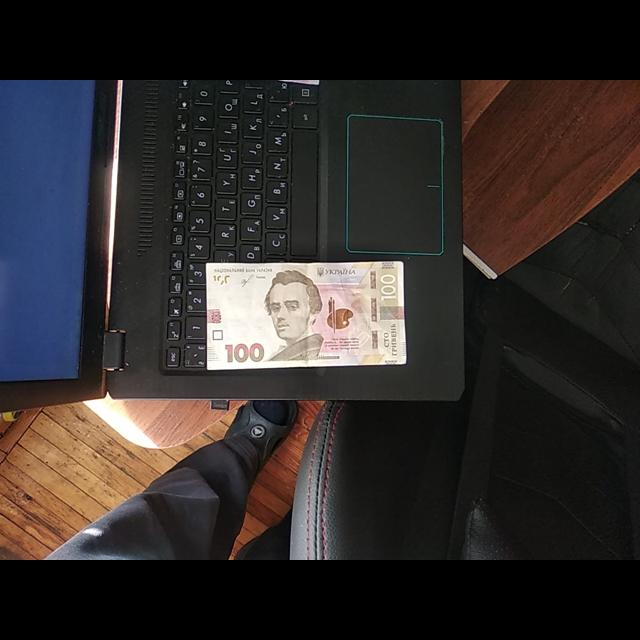100uah: (204, 262, 404, 362)
